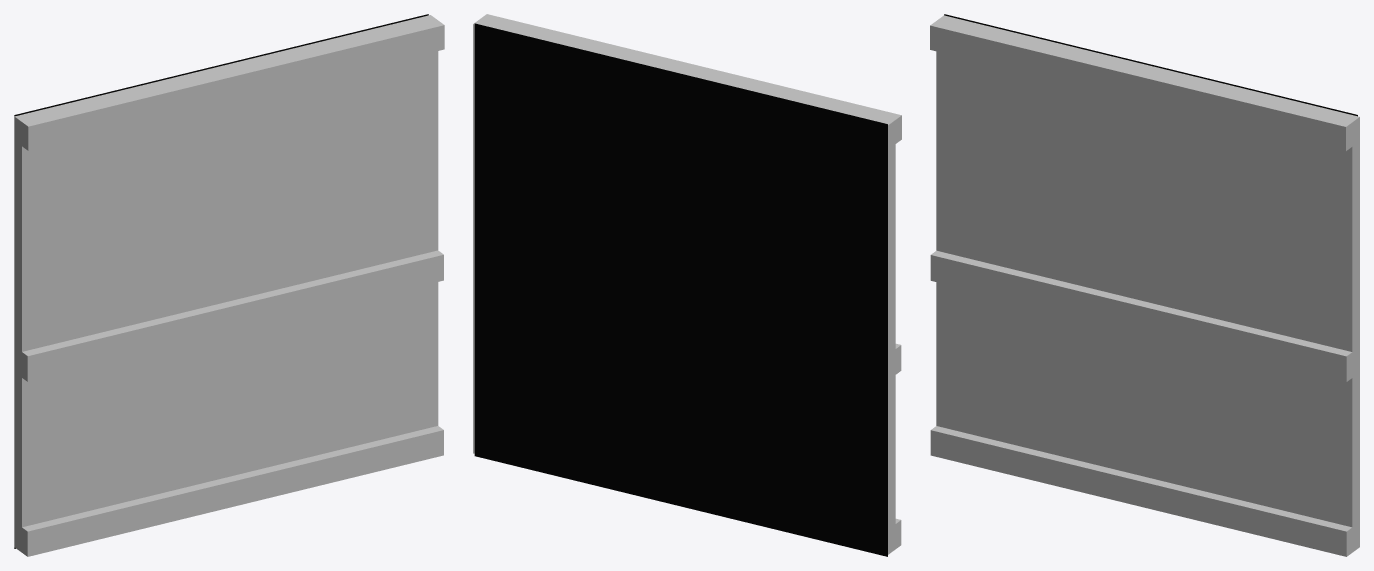
File: FBX_Stone_Wall_Backfaced_00.fbx
3 views of the same model, side by side, from view 1: azimuth 30°, elevation 25°; view 2: azimuth 150°, elevation 25°; view 3: azimuth 330°, elevation 25° (orthographic).
Visible parts, largest first — view 1: Mesh_Stone_Wall_00, Mesh_Wall_Backface_00; view 2: Mesh_Wall_Backface_00, Mesh_Stone_Wall_00; view 3: Mesh_Stone_Wall_00, Mesh_Wall_Backface_00.
Part boxes in pixels (left/top/right/bottom): Mesh_Stone_Wall_00: left=14, top=15, right=444, bottom=556; Mesh_Wall_Backface_00: left=14, top=14, right=428, bottom=548; Mesh_Wall_Backface_00: left=474, top=23, right=887, bottom=556; Mesh_Stone_Wall_00: left=473, top=14, right=901, bottom=554; Mesh_Stone_Wall_00: left=930, top=15, right=1359, bottom=556; Mesh_Wall_Backface_00: left=944, top=14, right=1357, bottom=116.
Size of the model in its own units: 100 by 99.7 by 5.84.
